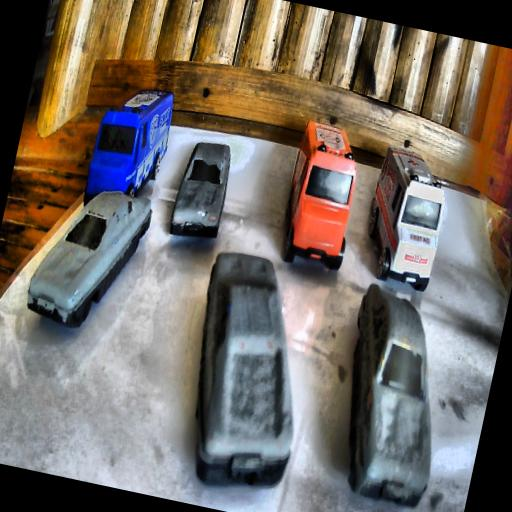ambulance: (355, 142, 455, 293)
fire_truck: (273, 116, 370, 272)
normal_car: (168, 248, 326, 498), (318, 279, 466, 510), (20, 173, 157, 340), (166, 134, 237, 244)
police car: (80, 76, 180, 218)
